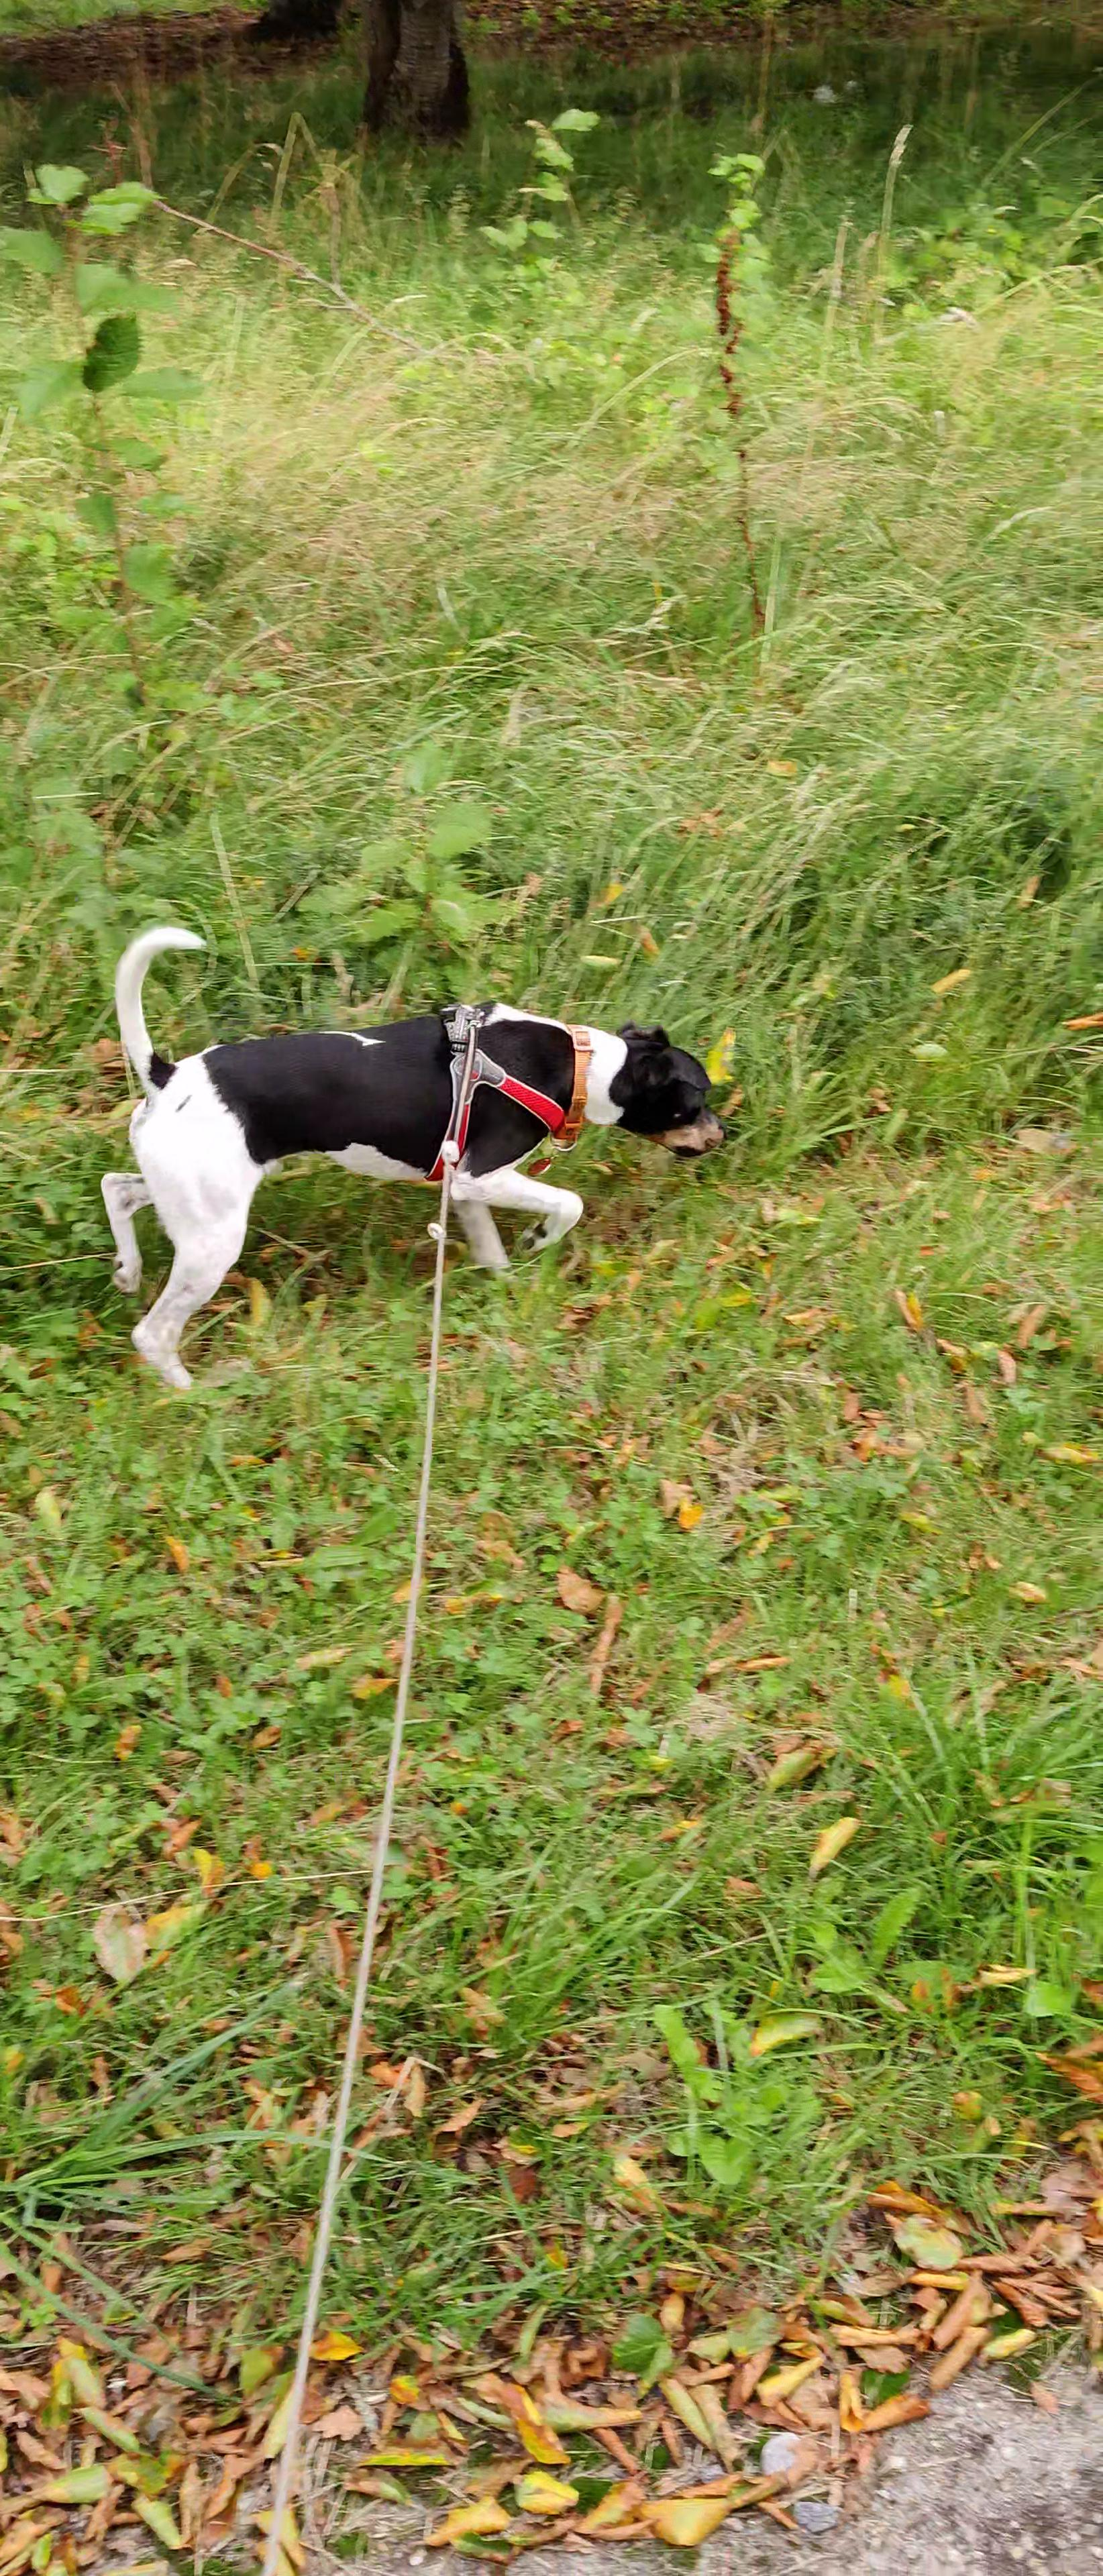Dog: (82, 908, 738, 1400)
